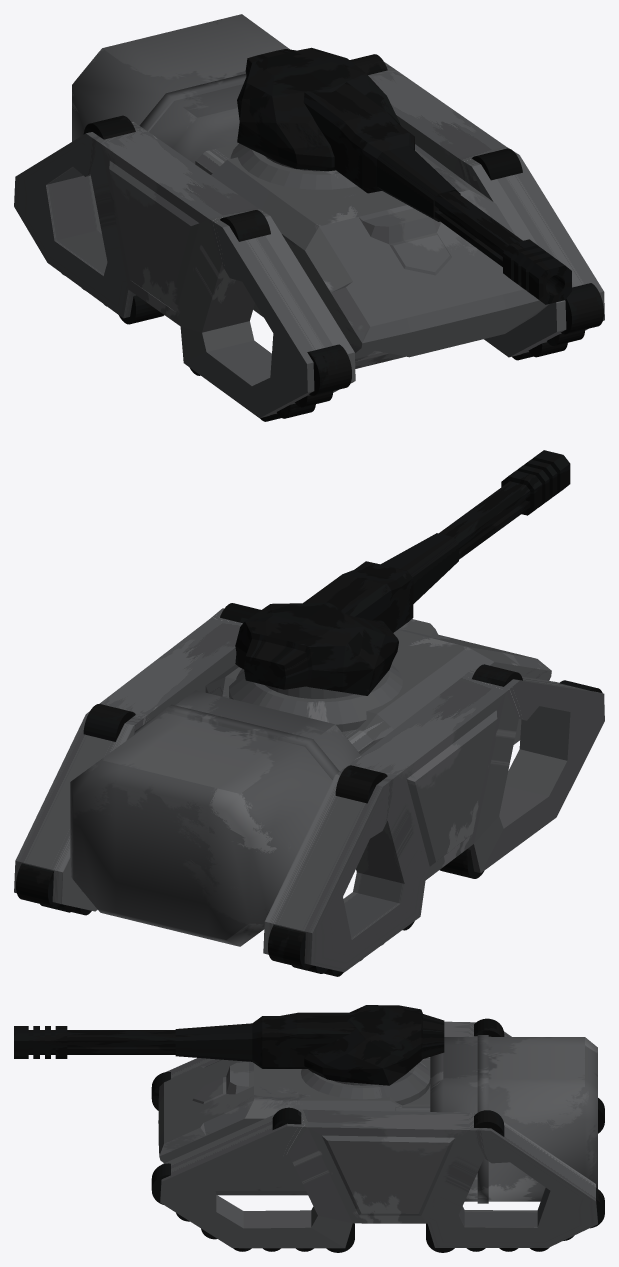
File: Tank.glb
3 renders of one model, top to bottom at view 1: azimuth 30°, elevation 25°; view 2: azimuth 150°, elevation 25°; view 3: azimuth 270°, elevation 25°, orthographic. The views are drawn at different scales.
Visible parts, largest first — view 1: TrackFrame1.001, Crew, Storage, TrackFrame1, Turret1, Turret2, Turret3, PivotCannon, Cylinder.024, Cylinder.008, Cylinder.030, Cylinder.012 (+2 smaller); view 2: TrackFrame1.001, Storage, TrackFrame1, Turret1, Crew, Turret2, Turret3, PivotCannon, Cylinder.014, Cylinder.029, Cylinder.031, Cylinder.015 (+1 smaller); view 3: TrackFrame1, Storage, Crew, Turret1, Turret2, Turret3, PivotCannon, TrackFrame1.001, Cylinder.015, Cylinder.012, Cylinder.031, Cylinder.008 (+1 smaller).
Boxes of the visible parts, box(x1,y1,x2,y2) form: TrackFrame1.001: box(14, 122, 355, 418); Crew: box(195, 143, 549, 368); Storage: box(72, 14, 289, 163); TrackFrame1: box(368, 62, 604, 357); Turret1: box(237, 47, 399, 171); Turret2: box(303, 82, 460, 221); Turret3: box(434, 191, 571, 304); PivotCannon: box(230, 143, 357, 189); Cylinder.024: box(307, 344, 351, 395); Cylinder.008: box(561, 283, 603, 334); Cylinder.030: box(220, 210, 270, 241); Cylinder.012: box(472, 148, 522, 180); TrackFrame1.001: box(263, 669, 604, 972); Storage: box(70, 690, 360, 946); TrackFrame1: box(14, 608, 242, 911); Turret1: box(235, 602, 398, 695); Crew: box(205, 619, 551, 754); Turret2: box(303, 533, 458, 632); Turret3: box(439, 450, 570, 559); PivotCannon: box(229, 664, 402, 731); Cylinder.014: box(16, 863, 60, 907); Cylinder.029: box(268, 925, 312, 968); Cylinder.031: box(335, 765, 387, 803); Cylinder.015: box(83, 704, 135, 741); TrackFrame1: box(160, 1109, 597, 1248); Storage: box(430, 1035, 597, 1203); Crew: box(158, 1057, 430, 1195); Turret1: box(304, 1005, 444, 1085); Turret2: box(175, 1012, 356, 1068); Turret3: box(14, 1026, 175, 1058); PivotCannon: box(301, 1062, 430, 1105); TrackFrame1.001: box(166, 1021, 511, 1078); Cylinder.015: box(474, 1110, 504, 1136); Cylinder.012: box(272, 1107, 301, 1129); Cylinder.031: box(474, 1018, 504, 1036); Cylinder.008: box(151, 1163, 170, 1204).
Bounding box in the file's own units: 7.15 × 5.47 × 16.04.
Materials: 3 (3 with a texture image).
